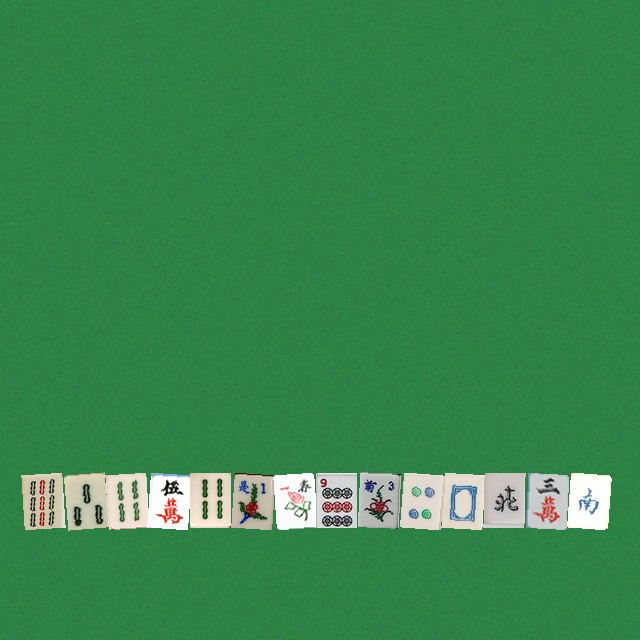tile: (21, 472, 62, 527), (63, 472, 104, 527), (105, 472, 146, 527), (147, 472, 188, 527), (189, 472, 230, 527), (231, 472, 272, 527), (273, 472, 314, 527), (315, 472, 356, 527), (357, 472, 398, 527), (399, 472, 440, 527), (441, 472, 482, 527), (483, 472, 524, 527), (525, 472, 566, 527), (567, 472, 608, 527)
